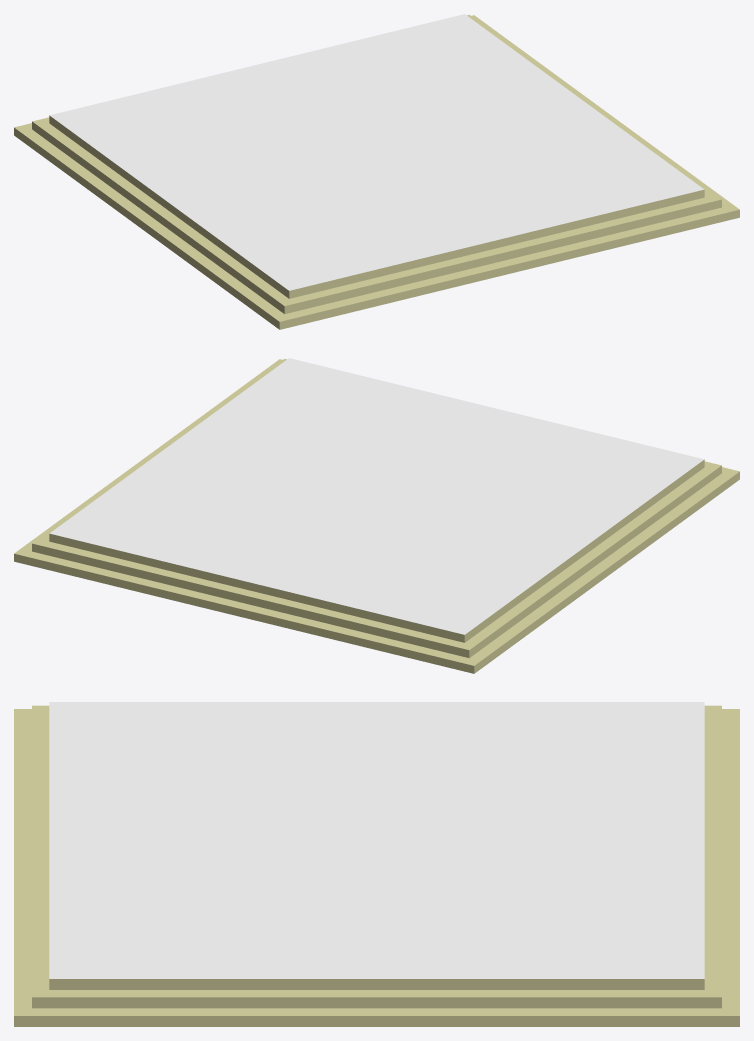
The model's file is tablero.fbx.
3 renders of one model, top to bottom at view 1: azimuth 30°, elevation 25°; view 2: azimuth 150°, elevation 25°; view 3: azimuth 270°, elevation 25°, orthographic. The views are drawn at different scales.
Parts seen in each view (by area): view 1: Cube_002; view 2: Cube_002; view 3: Cube_002.
Boxes of the visible parts, <box> form: Cube_002: <box>14,14,739,329</box>; Cube_002: <box>14,358,739,673</box>; Cube_002: <box>14,702,739,1026</box>.
Size of the model in its own units: 12 by 0.6 by 12.
